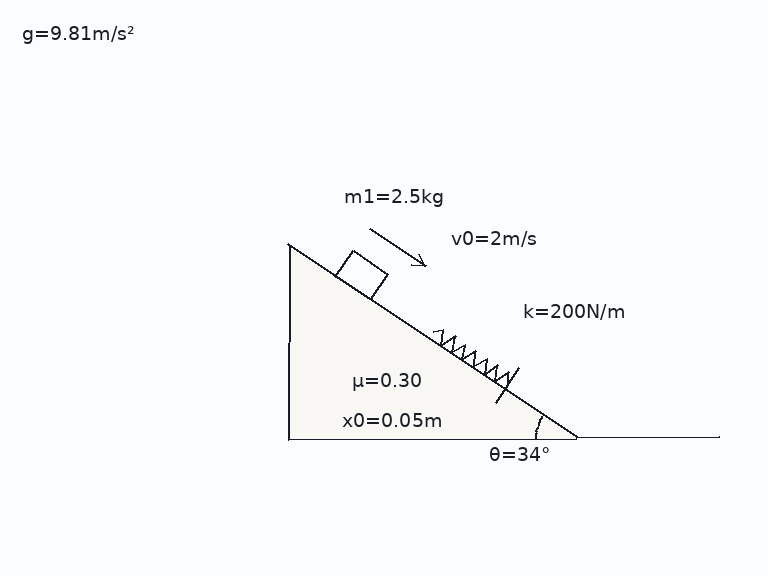block: (333, 248, 389, 301)
ramp: (287, 243, 578, 440)
spring: (433, 328, 511, 384)
